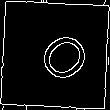O_SW: (21, 22, 89, 88)
